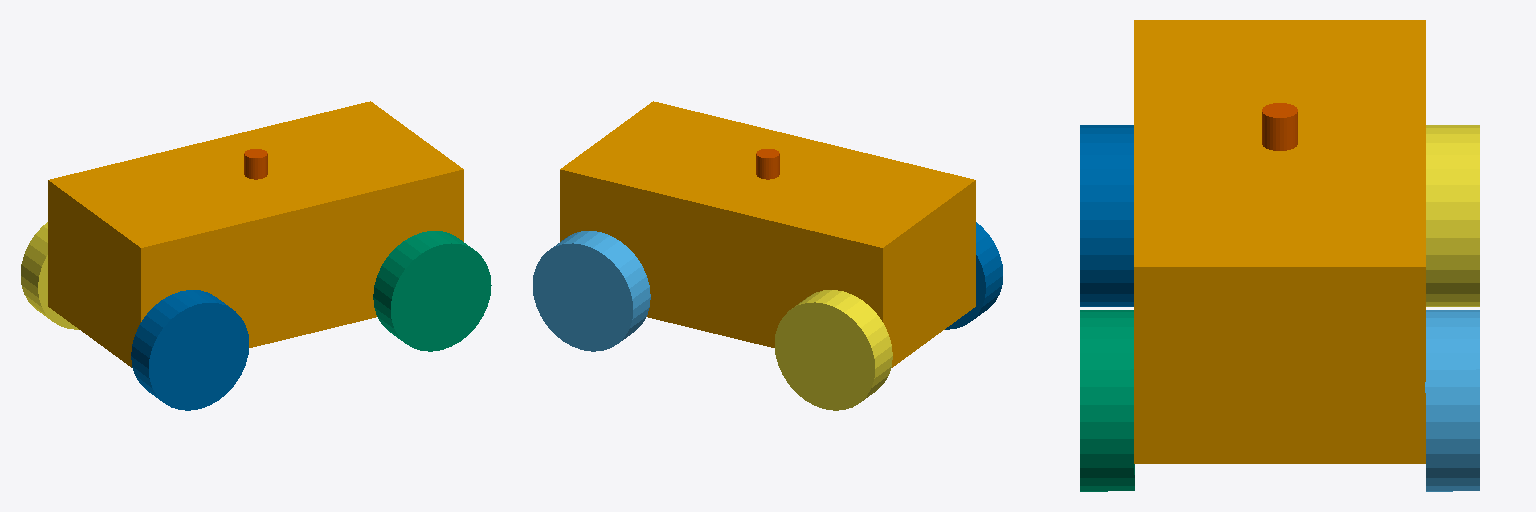
The robot description file, URDF, robot "mammoth":
<?xml version="1.0"?>
<robot name="mammoth">

  <!--
      ROBOT BASE
  -->

  <link name="base_link">
    <visual>
      <geometry>
        <box size="0.8 0.4 0.3"/>
      </geometry>
    </visual>
    <collision>
      <geometry>
        <box size="0.8 0.4 0.3"/>
      </geometry>
    </collision>
    <!--inertial>
      <mass value="45"/>
      <inertia
        ixx="2.7375"  ixy="0.0" ixz="0.0"
                      iyy="3.0" iyz="0.0"
                                izz="0.9375"/>
    </inertial-->
  </link>

  <!--
      BACK RIGHT WHEEL LINK AND JOINT
  -->

  <link name="wheel_br">
    <visual>
      <geometry>
        <cylinder length="0.075" radius="0.125"/>
      </geometry>
    </visual>
    <collision>
      <geometry>
        <cylinder length="0.075" radius="0.125"/>
      </geometry>
      <contact_coefficients mu="0.72" resitution="0"  k_p="0"  k_d="0" />
    </collision>
    <inertial>
      <mass value="1.1"/>
      <inertia
        ixx="0.0048125" ixy="0.0"       ixz="0.0"
                        iyy="0.0048125" iyz="0.0"
                                        izz="0.00859375"/>
    </inertial>
  </link>

  <joint name="base_to_wheel_br" type="continuous">
    <axis xyz="0 0 1"/>
    <origin rpy="1.57 -3.14159 0" xyz="0.3 0.2375 -0.1"/>
    <parent link="base_link"/>
    <child link="wheel_br"/>
  </joint>

  <!--
      BACK LEFT WHEEL LINK AND JOINT
  -->

  <link name="wheel_bl">
    <visual>
      <geometry>
        <cylinder length="0.075" radius="0.125"/>
      </geometry>
    </visual>
    <collision>
      <geometry>
        <cylinder length="0.075" radius="0.125"/>
      </geometry>
      <contact_coefficients mu="0.72" resitution="0"  k_p="0"  k_d="0" />
    </collision>
    <inertial>
      <mass value="1.1"/>
      <inertia
        ixx="0.0048125" ixy="0.0"       ixz="0.0"
                        iyy="0.0048125" iyz="0.0"
                                        izz="0.00859375"/>
    </inertial>

  </link>

  <joint name="base_to_wheel_bl" type="continuous">
    <axis xyz="0 0 1"/>
    <origin rpy="1.57 -3.14159 0" xyz="0.3 -0.2375 -0.1"/>
    <parent link="base_link"/>
    <child link="wheel_bl"/>
  </joint>


  <!--
      FRONT RIGHT WHEEL LINK AND JOINT
  -->

  <link name="wheel_fr">  
    <visual>
      <geometry>
        <cylinder length="0.075" radius="0.125"/>
      </geometry>
    </visual>
    <collision>
      <geometry>
        <cylinder length="0.075" radius="0.125"/>
      </geometry>
      <contact_coefficients mu="0.72" resitution="0"  k_p="0"  k_d="0" />
    </collision>
    <inertial>
      <mass value="1.1"/>
      <inertia
        ixx="0.0048125" ixy="0.0"       ixz="0.0"
                        iyy="0.0048125" iyz="0.0"
                                        izz="0.00859375"/>
    </inertial>
  </link>

  <joint name="base_to_wheel_fr" type="continuous">
    <axis xyz="0 0 1"/>
    <origin rpy="1.57 -3.14159 0" xyz="-0.3 0.2375 -0.1"/>
    <parent link="base_link"/>
    <child link="wheel_fr"/>
  </joint>

  <!--
      FRONT LEFT WHEEL LINK AND JOINT
  -->

  <link name="wheel_fl">
    <visual>
      <geometry>
        <cylinder length="0.075" radius="0.125"/>
      </geometry>
    </visual>
    <collision>
      <geometry>
        <cylinder length="0.075" radius="0.125"/>
      </geometry>
      <contact_coefficients mu="0.72" resitution="0"  k_p="0"  k_d="0" />
    </collision>
    <inertial>
      <mass value="1.1"/>
      <inertia
        ixx="0.0048125" ixy="0.0"       ixz="0.0"
                        iyy="0.0048125" iyz="0.0"
                                        izz="0.00859375"/>
    </inertial>
  </link>



  <joint name="base_to_wheel_fl" type="continuous">
    <axis xyz="0 0 1"/>
    <origin rpy="1.57 -3.14159 0" xyz="-0.3 -0.2375 -0.1"/>
    <parent link="base_link"/>
    <child link="wheel_fl"/>
  </joint>


  <!--
      LIDAR LINK AND JOINT
  -->

  <link name="laser_link">
    <visual>
      <geometry>
        <cylinder length="0.05" radius="0.025"/>
      </geometry>
    </visual>
    <collision>
      <geometry>
        <cylinder length="0.05" radius="0.025"/>
      </geometry>
    </collision>
    <inertial>
      <mass value="1e-5" />
      <inertia ixx="1e-6" ixy="0" ixz="0" iyy="1e-6" iyz="0" izz="1e-6" />
    </inertial>

    <gazebo>
      <sensor type="gpu_lidar" name="laser_link">
        <update_rate>10</update_rate>
        <lidar>
          <scan>
            <horizontal>
              <samples>640</samples>
              <resolution>1</resolution>
              <min_angle>-1.396263</min_angle>
              <max_angle>1.396263</max_angle>
            </horizontal>
            <vertical>
              <samples>16</samples>
              <resolution>1</resolution>
              <min_angle>-0.261799</min_angle>
              <max_angle>0.261799</max_angle>
            </vertical>
          </scan>
          <range>
            <min>0.08</min>
            <max>10.0</max>
            <resolution>0.01</resolution>
          </range>
        </lidar>
        <alwaysOn>1</alwaysOn>
        <visualize>true</visualize>
      </sensor>
    </gazebo>
  </link>

  <joint name="base_to_laser" type="fixed">
    <origin rpy="0 0 0" xyz="0 0 0.175"/>
    <parent link="base_link"/>
    <child link="laser_link"/>
  </joint>

  <!--
      Todo: add world tags for plugins...
      GAZEBO MOTION
  -->
  <gazebo>
    <plugin filename="libignition-gazebo-diff-drive-system.so" name="ignition::gazebo::systems::DiffDrive">
      <left_joint>base_to_wheel_bl</left_joint>
      <right_joint>base_to_wheel_br</right_joint>
      <left_joint>base_to_wheel_fl</left_joint>
      <right_joint>base_to_wheel_fr</right_joint>
      <wheel_separation>0.475</wheel_separation>
      <wheel_radius>0.125</wheel_radius>
      <odom_publish_frequency>1</odom_publish_frequency>

      <frame_id>odom</frame_id>
      <child_frame_id>base_link</child_frame_id>
    </plugin>
  </gazebo>

</robot>

--- What the picture shows (computed from the rendered views, not written in the file) ---
Views: 3 orthographic renders of the robot side by side, from view 1: azimuth 30°, elevation 25°; view 2: azimuth 150°, elevation 25°; view 3: azimuth 270°, elevation 25°.
Robot: mammoth — 6 links, 5 joints (4 continuous, 1 fixed); root link base_link; default pose: all joints at 0.
Links seen in each view (by area): view 1: base_link, wheel_bl, wheel_fl, wheel_fr, laser_link; view 2: base_link, wheel_fr, wheel_br, wheel_fl, laser_link; view 3: base_link, wheel_bl, wheel_fr, wheel_fl, wheel_br, laser_link.
Boxes of the visible links, x1=… form: base_link: x1=48, y1=101, x2=463, y2=367; wheel_bl: x1=373, y1=231, x2=491, y2=351; wheel_fl: x1=131, y1=290, x2=248, y2=410; wheel_fr: x1=21, y1=222, x2=78, y2=329; laser_link: x1=244, y1=149, x2=267, y2=179; base_link: x1=560, y1=101, x2=975, y2=367; wheel_fr: x1=775, y1=290, x2=892, y2=410; wheel_br: x1=533, y1=231, x2=650, y2=351; wheel_fl: x1=945, y1=222, x2=1002, y2=329; laser_link: x1=756, y1=149, x2=779, y2=179; base_link: x1=1134, y1=20, x2=1425, y2=463; wheel_bl: x1=1080, y1=310, x2=1134, y2=491; wheel_fr: x1=1426, y1=125, x2=1479, y2=306; wheel_fl: x1=1080, y1=125, x2=1133, y2=306; wheel_br: x1=1425, y1=310, x2=1479, y2=491; laser_link: x1=1262, y1=103, x2=1297, y2=150.
Bounding box of the posed robot: 0.85 × 0.5502 × 0.425 m (x, y, z).
Geometry: primitives only (box / cylinder / sphere), no mesh files.